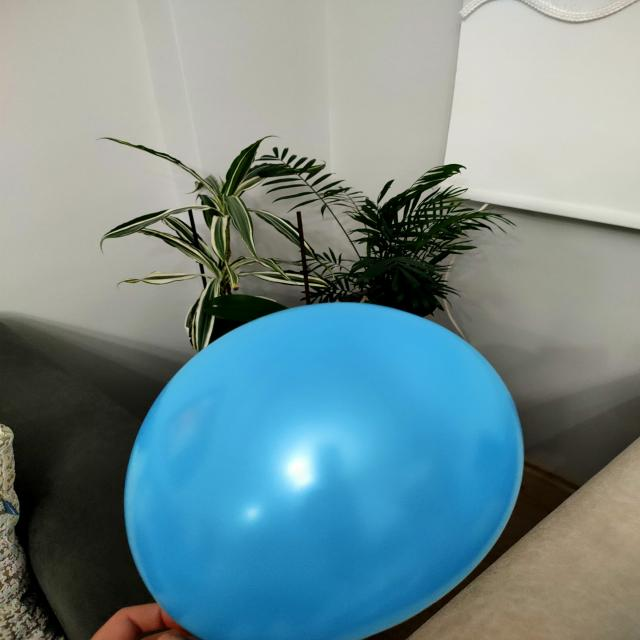blue: (127, 304, 525, 640)
